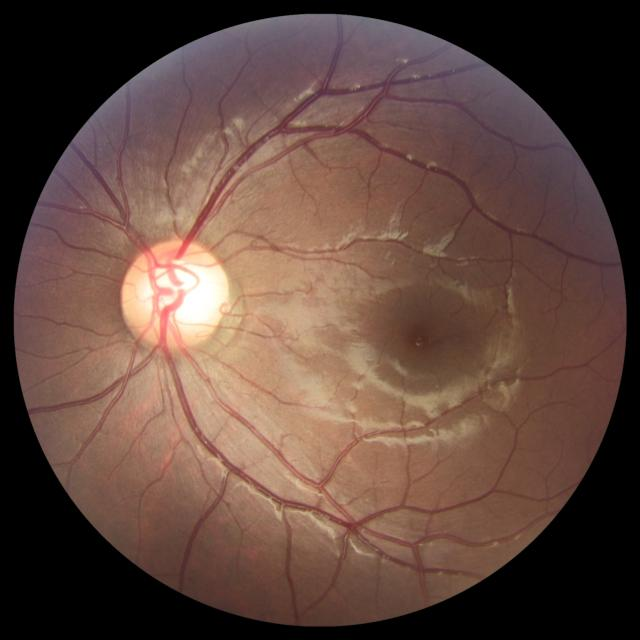OC: (144, 258, 215, 331)
OD: (120, 238, 229, 351)
